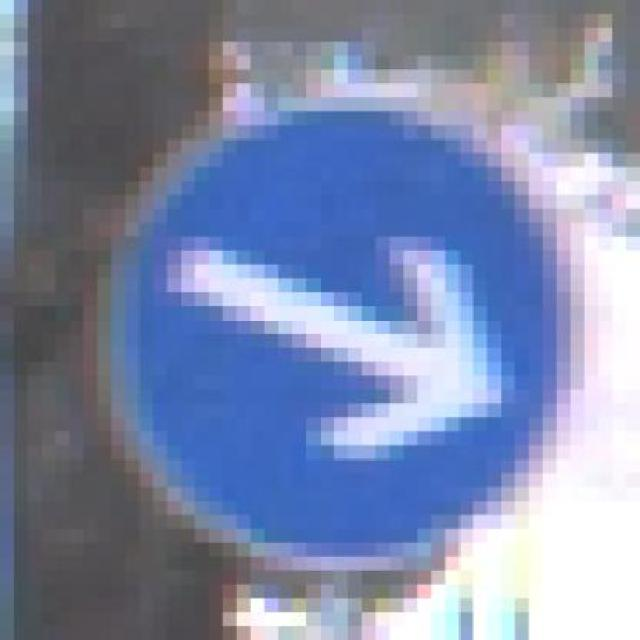Keep-Right: (70, 69, 598, 571)
